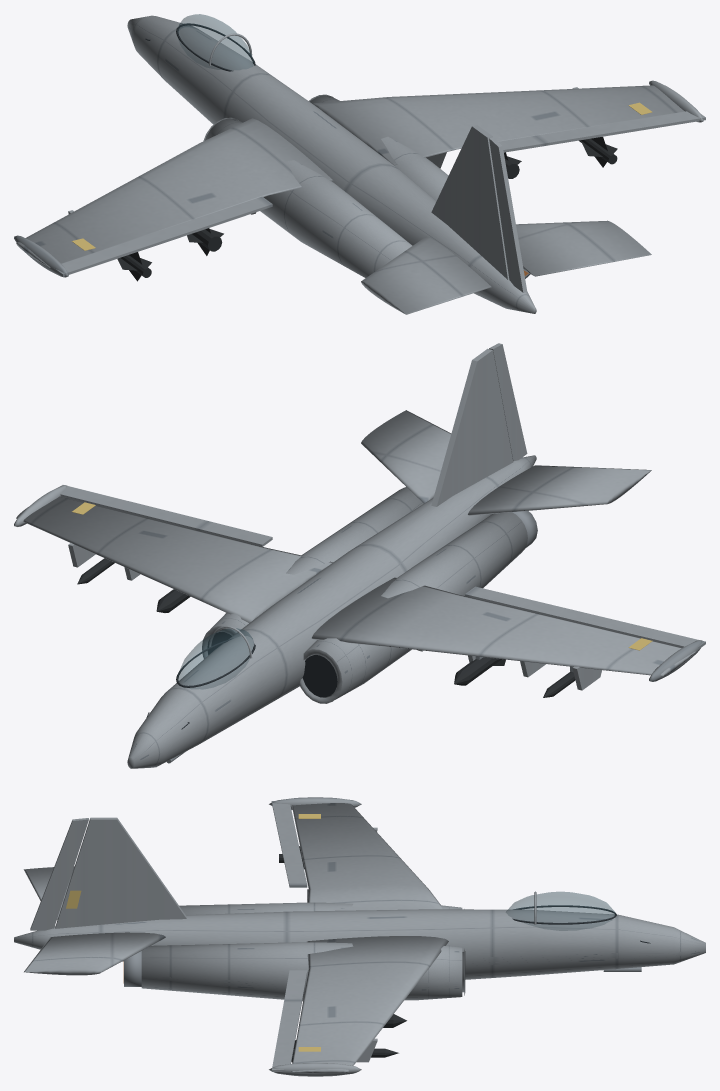
Rendered from wings_su25sm.glb.
3 views of the same model, one above another, from view 1: azimuth 30°, elevation 25°; view 2: azimuth 150°, elevation 25°; view 3: azimuth 270°, elevation 25° (orthographic). The views are drawn at different scales.
Parts seen in each view (by area): view 1: airframe_static, elevator_L, elevator_R, canopy, aileron_L, aileron_R, rudder_center, missile_R2, missile_L1, missile_L2; view 2: airframe_static, elevator_L, elevator_R, canopy, aileron_L, aileron_R, rudder_center, missile_L1; view 3: airframe_static, elevator_R, canopy, rudder_center, aileron_R, aileron_L, elevator_L.
Boxes of the visible parts, <box> form: airframe_static: <box>14,15,703,313</box>; elevator_L: <box>361,236,491,314</box>; elevator_R: <box>516,220,651,276</box>; canopy: <box>176,14,255,71</box>; aileron_L: <box>54,196,272,276</box>; aileron_R: <box>498,111,705,152</box>; rudder_center: <box>489,137,527,292</box>; missile_R2: <box>579,137,617,167</box>; missile_L1: <box>187,228,223,255</box>; missile_L2: <box>117,252,151,281</box>; airframe_static: <box>14,348,701,768</box>; elevator_L: <box>468,465,651,515</box>; elevator_R: <box>361,410,451,503</box>; canopy: <box>176,625,255,689</box>; aileron_L: <box>465,586,705,648</box>; aileron_R: <box>60,485,272,546</box>; rudder_center: <box>489,343,527,461</box>; missile_L1: <box>454,657,505,685</box>; airframe_static: <box>14,797,705,1076</box>; elevator_R: <box>24,932,165,975</box>; canopy: <box>506,891,616,930</box>; rudder_center: <box>30,818,88,930</box>; aileron_R: <box>271,970,307,1071</box>; aileron_L: <box>271,801,307,887</box>; elevator_L: <box>23,866,74,919</box>.
Bounding box in the file's own units: 14.36 × 3.97 × 15.53.
7 materials, 1 textured.
